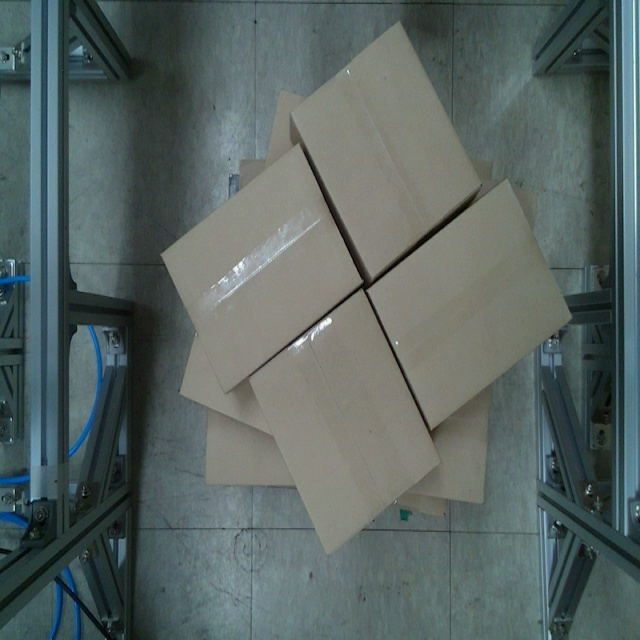box: (364, 173, 573, 439), (246, 284, 446, 561), (157, 139, 364, 400), (289, 19, 484, 285)
